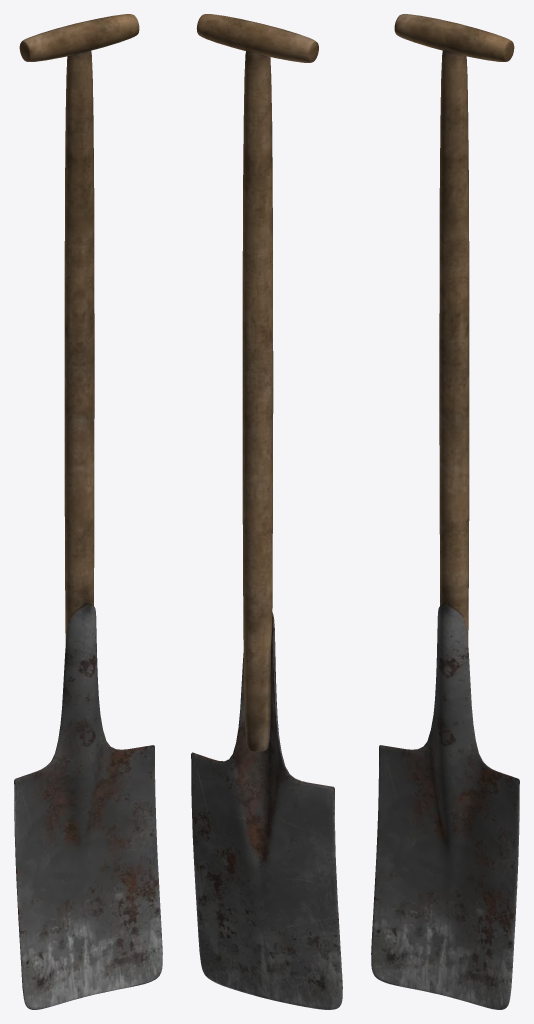
File: rusted_spade_01.glb
The picture shows the model from 3 angles, left to right: view 1: azimuth 30°, elevation 25°; view 2: azimuth 150°, elevation 25°; view 3: azimuth 330°, elevation 25°; orthographic projection. The views are drawn at different scales.
Parts seen in each view (by area): view 1: rusted_spade_01; view 2: rusted_spade_01; view 3: rusted_spade_01.
Part boxes in pixels (x1,y1,x2,y2): rusted_spade_01: (14,14,162,1009); rusted_spade_01: (191,14,342,1009); rusted_spade_01: (371,14,519,1009).
Bounding box in the file's own units: 0.1681 × 1.1 × 0.0456.
1 material, 1 textured.
